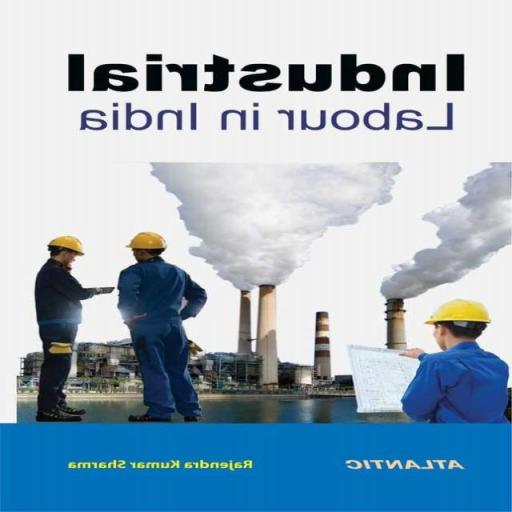helmet: (420, 296, 494, 326), (44, 232, 90, 258), (122, 228, 170, 252)
